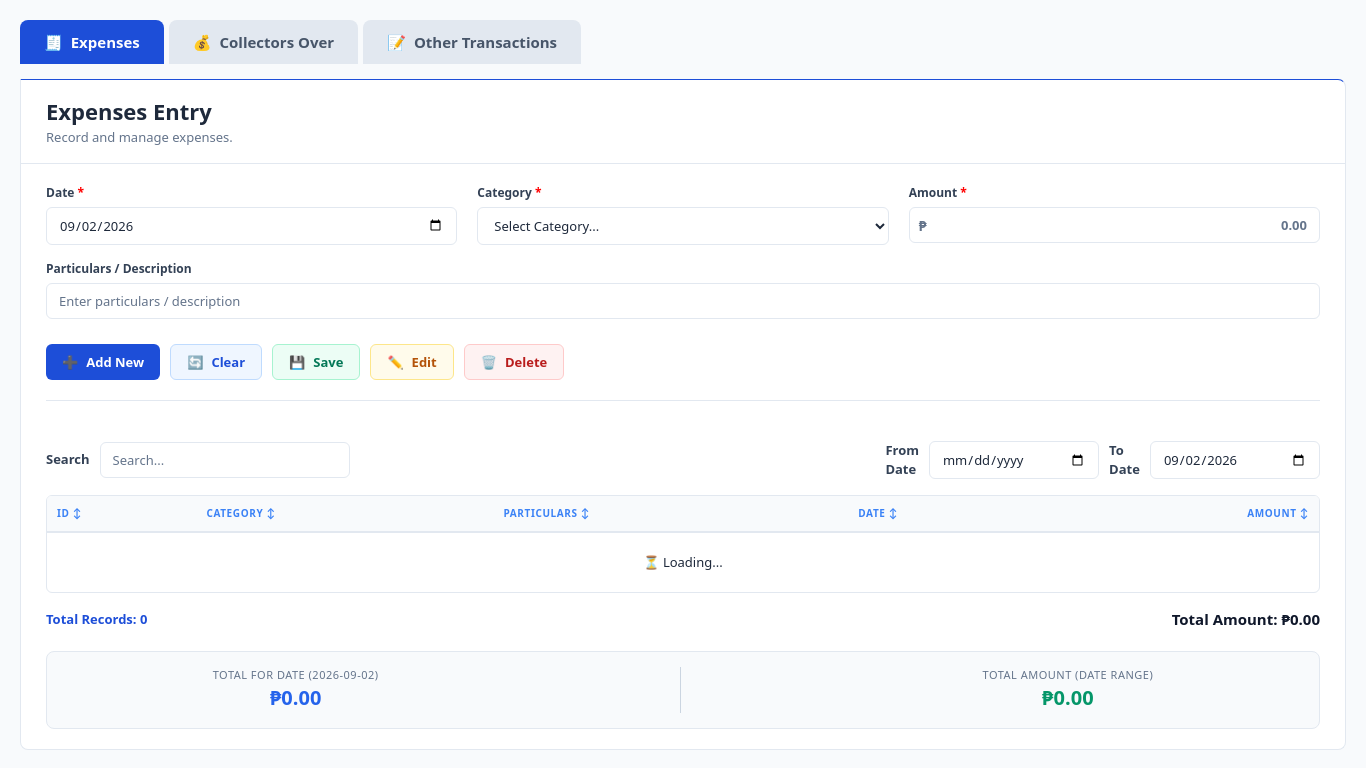
Test: Transactions confirmation modals › validates fields and shows error when required inputs are empty
# Leave amount empty and click save
Click the button "💾 Save": coordinates (316, 362) [272,344,360,380]
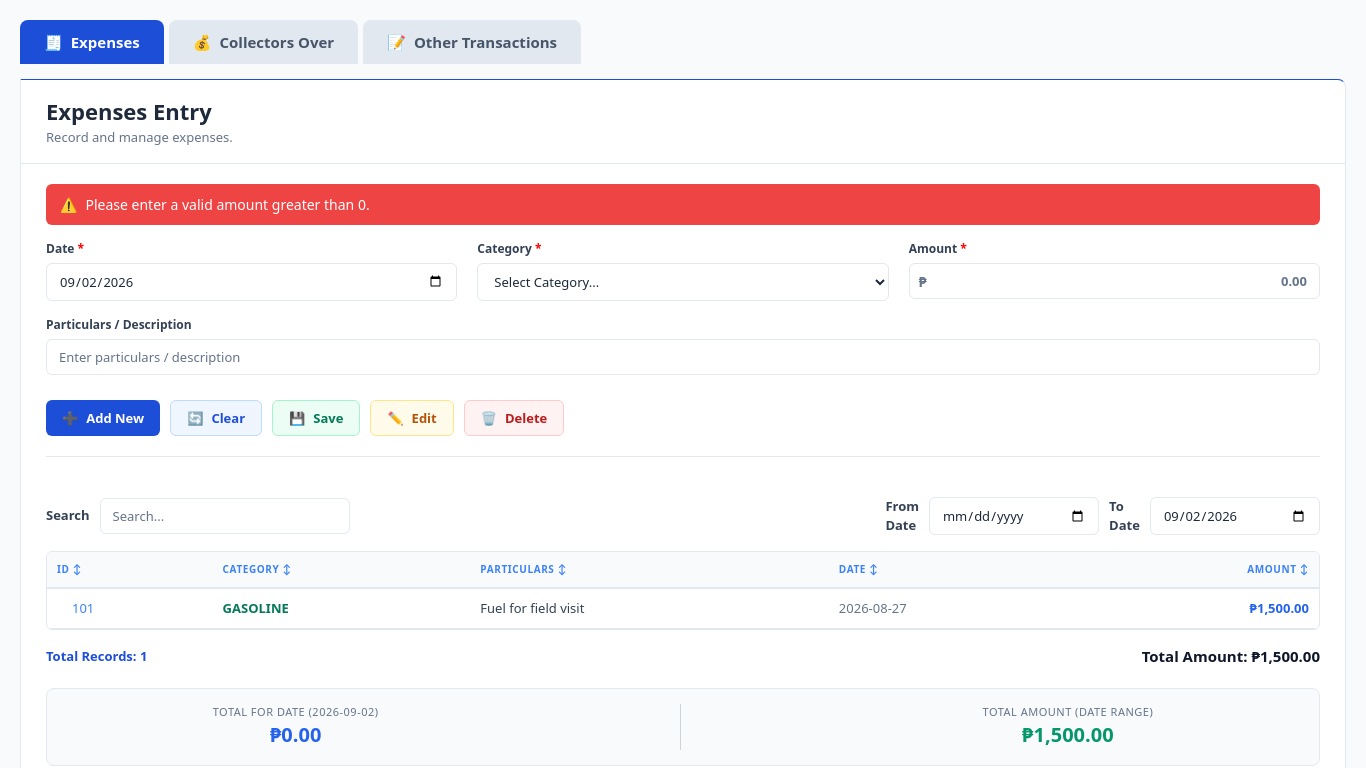
Check: the text "Please enter a valid amount greater than 0." is shown, box [86,194,370,214]
